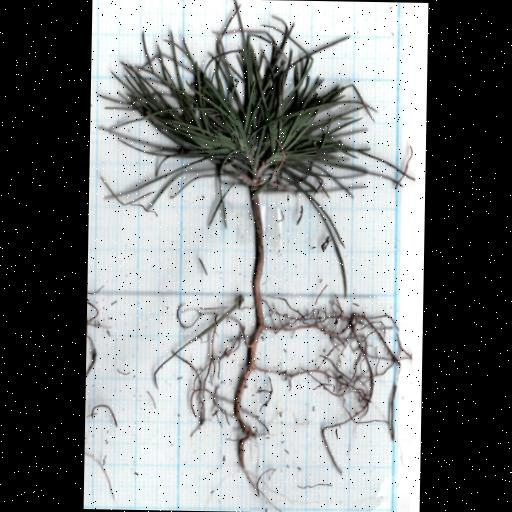flowerCedr: (102, 1, 412, 287)
rootCedr: (155, 297, 411, 497)
stemCedr: (250, 195, 265, 293)
